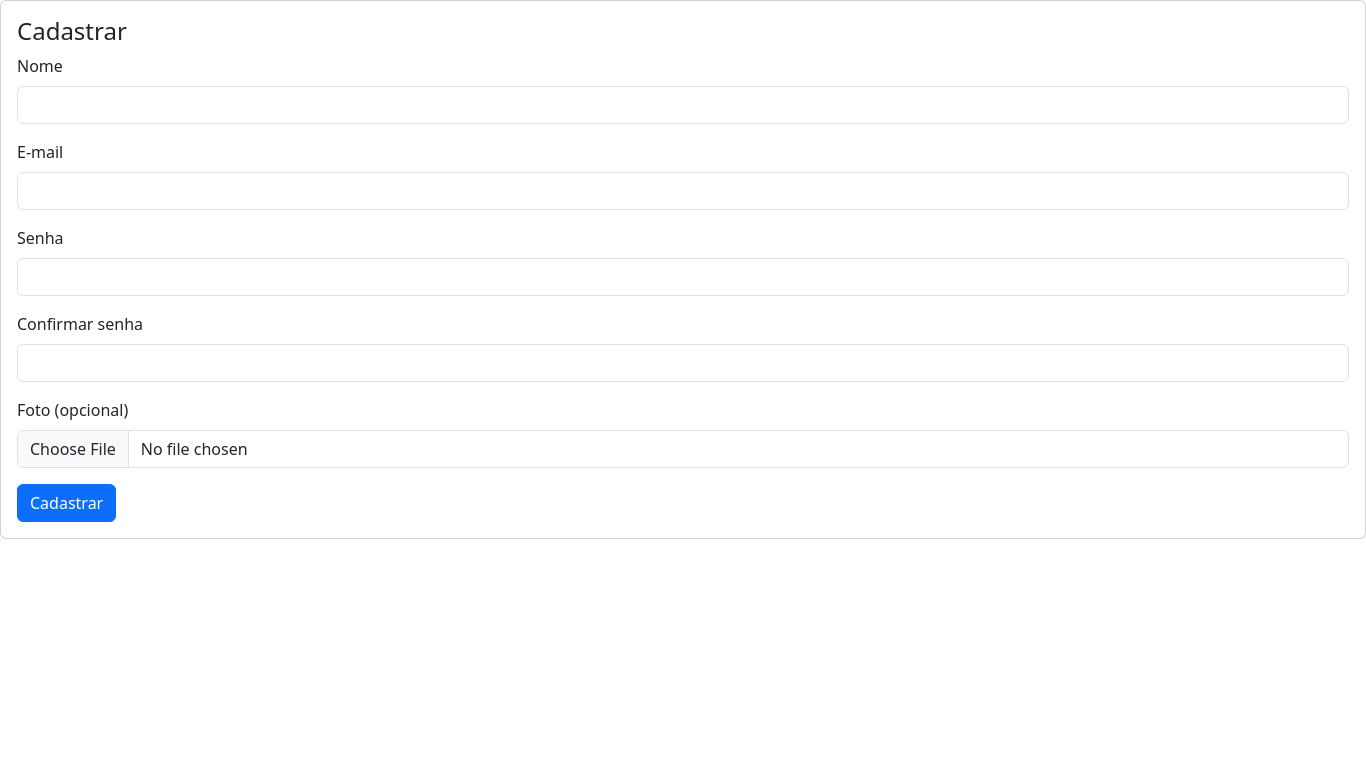
Test: RegisterPage › mostra warning e desabilita submit quando senhas não coincidem
Type "123" into the password field labelled "Senha" at (683, 277), box x1=17 y1=258 x2=1349 y2=296
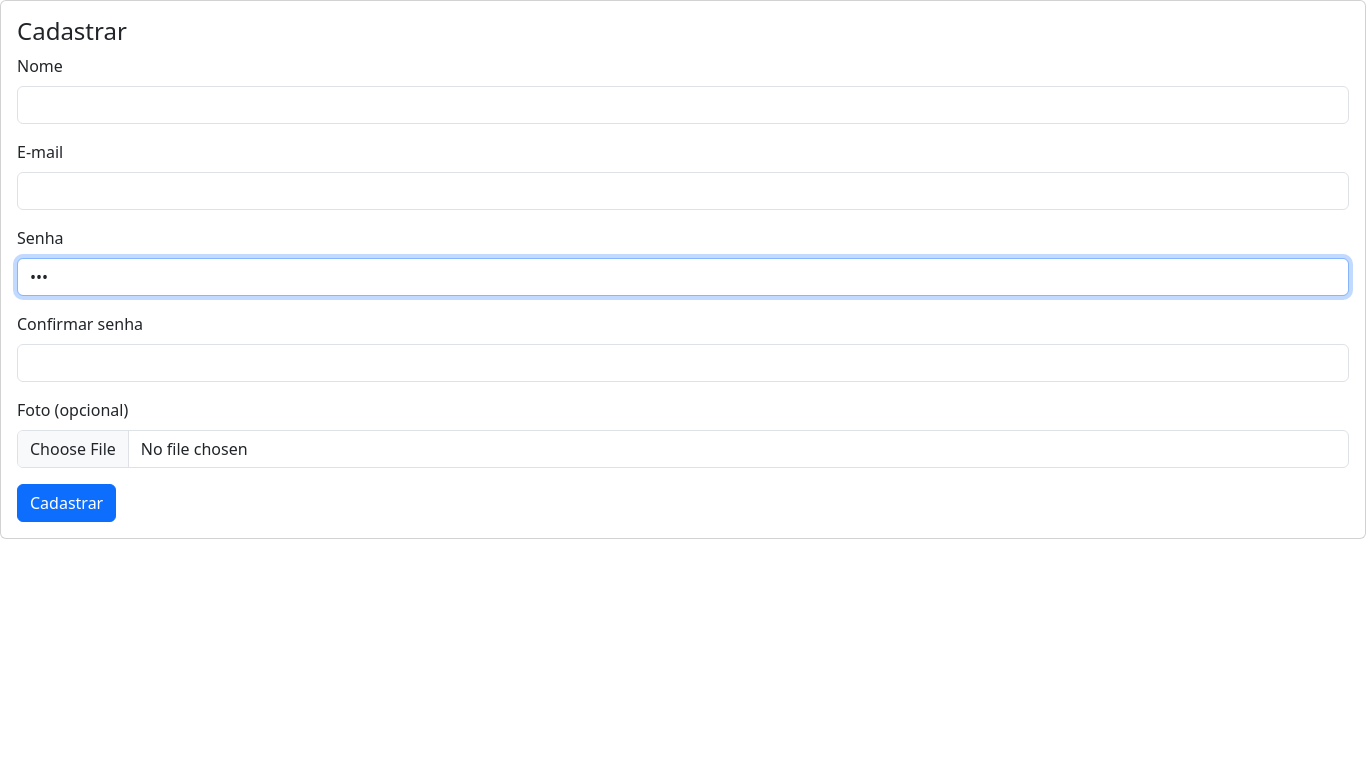
Type "456" into the password field labelled "Confirmar senha" at (683, 363), box x1=17 y1=344 x2=1349 y2=382
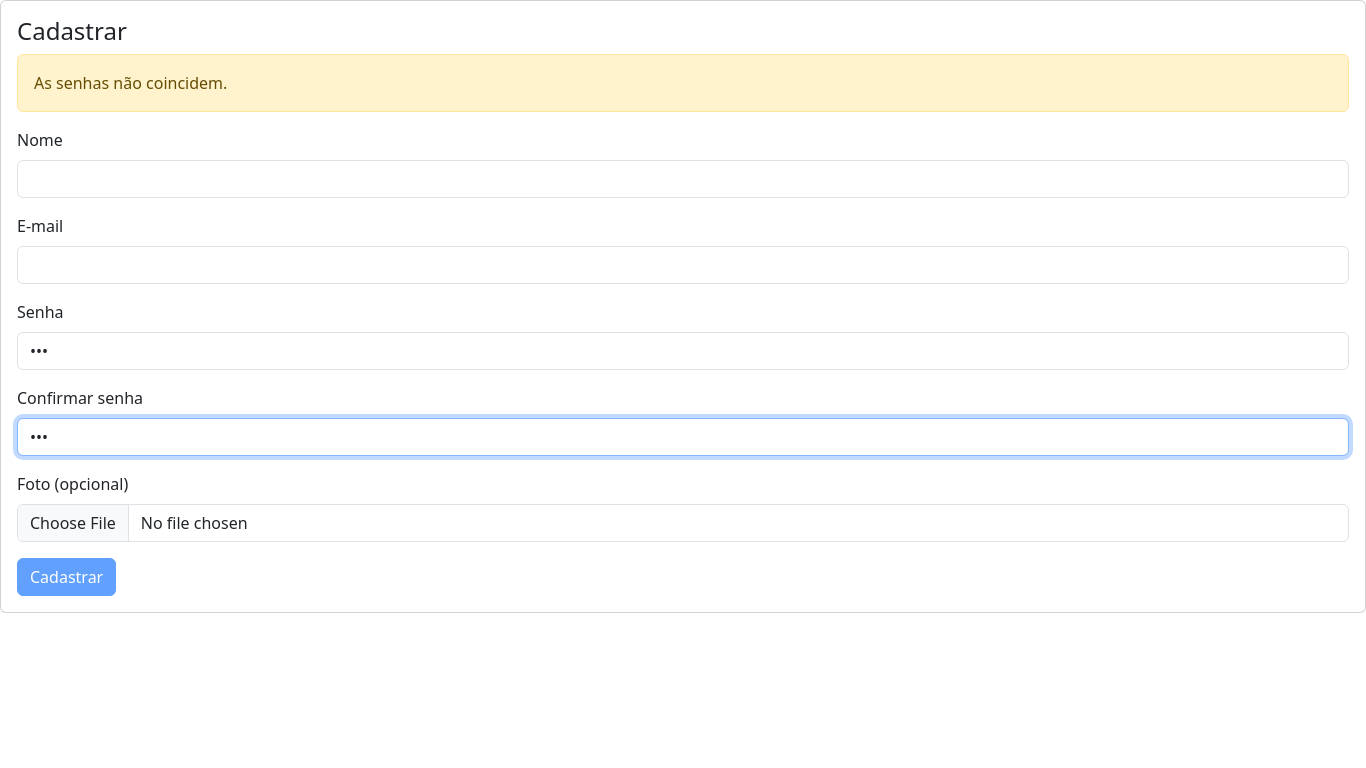
Expected: the text "As senhas não coincidem." is shown, x1=17 y1=54 x2=1349 y2=112
Expected: the button "Cadastrar" is disabled, x1=17 y1=558 x2=116 y2=596
